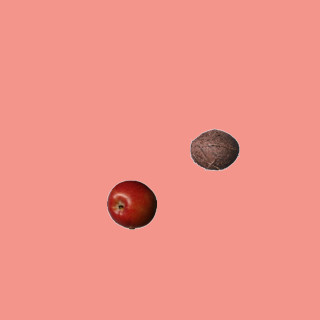Apple Braeburn: (106, 179, 156, 229)
Cocos: (189, 124, 239, 174)
